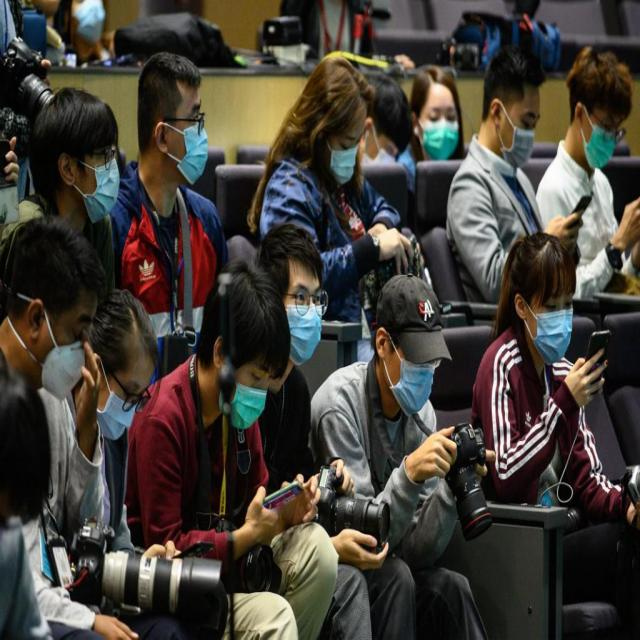face: (3, 208, 110, 404), (195, 269, 292, 436), (76, 275, 165, 446), (28, 83, 126, 225), (366, 268, 456, 420), (256, 218, 339, 372), (498, 231, 586, 371), (134, 46, 218, 190), (557, 36, 637, 176), (475, 42, 549, 173), (301, 58, 370, 191), (354, 69, 416, 171), (408, 59, 466, 164)
